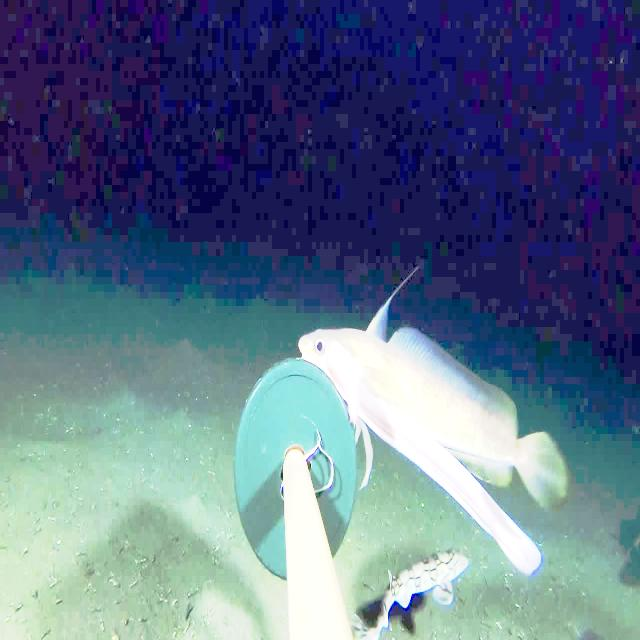eel: (313, 324, 562, 603)
fish: (285, 290, 596, 549), (366, 539, 482, 640)
pole: (234, 366, 351, 557)
